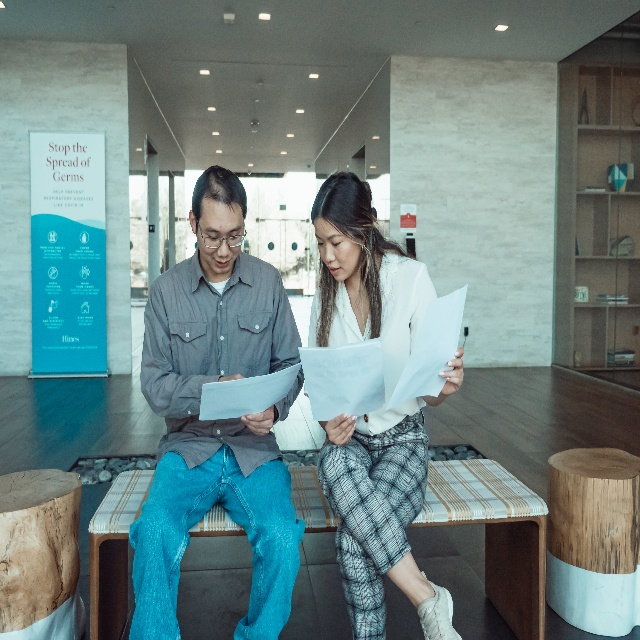Gafas: (196, 219, 247, 248)
Sin_guantes: (439, 346, 465, 396), (325, 412, 358, 446), (240, 404, 275, 436)
